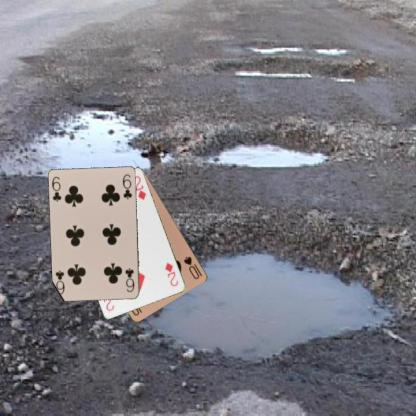10s: (181, 254, 204, 281)
2d: (163, 260, 180, 288)
6c: (49, 174, 63, 203), (122, 266, 136, 293)
